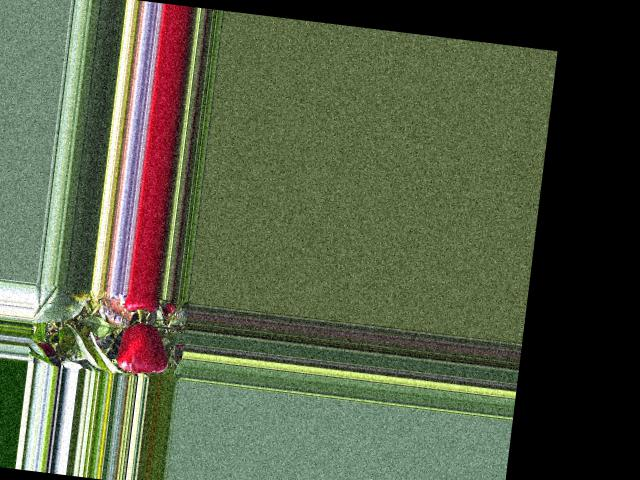bell_pepper: (119, 292, 161, 318)
